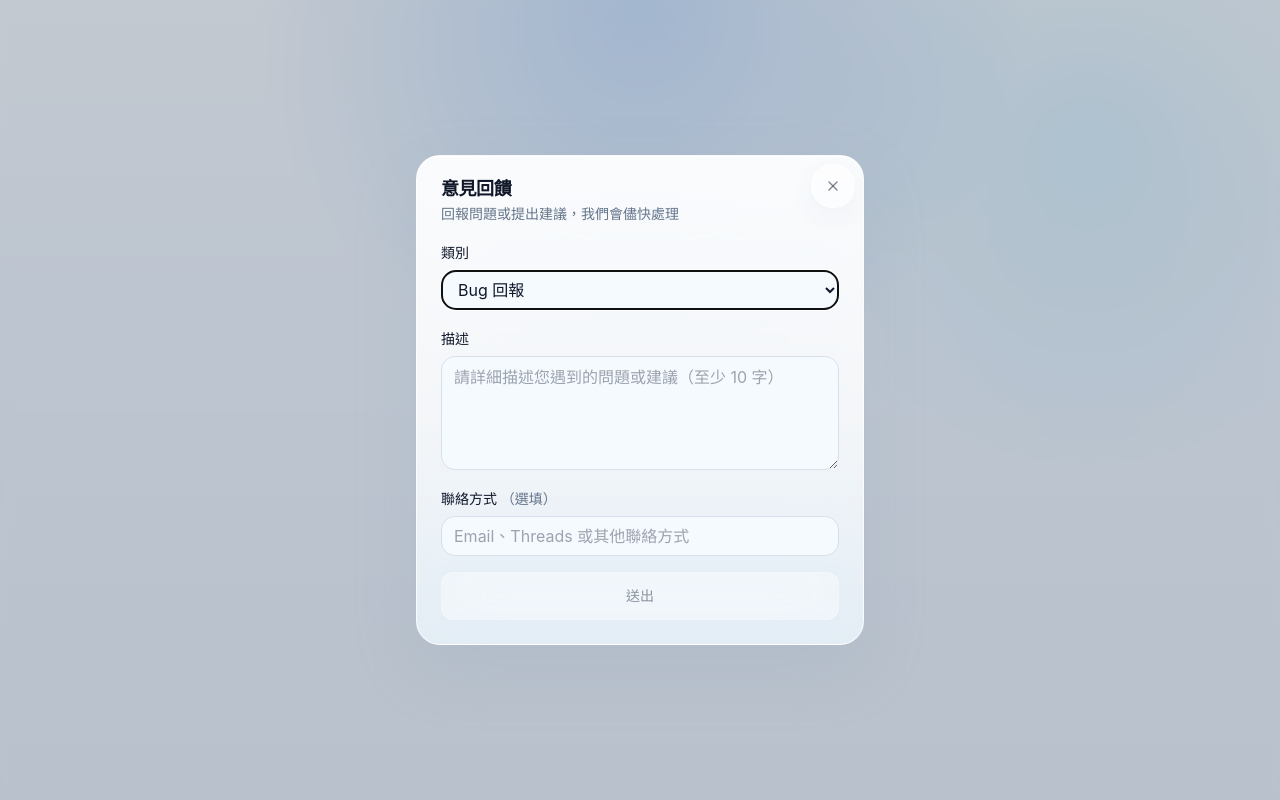
Scenario: FeedbackModal › 錯誤處理 › 400 → 顯示驗證錯誤
Type "這個功能有問題，需要修正一下。" into the text box labelled "描述" at (640, 413), box left=441, top=356, right=839, bottom=470
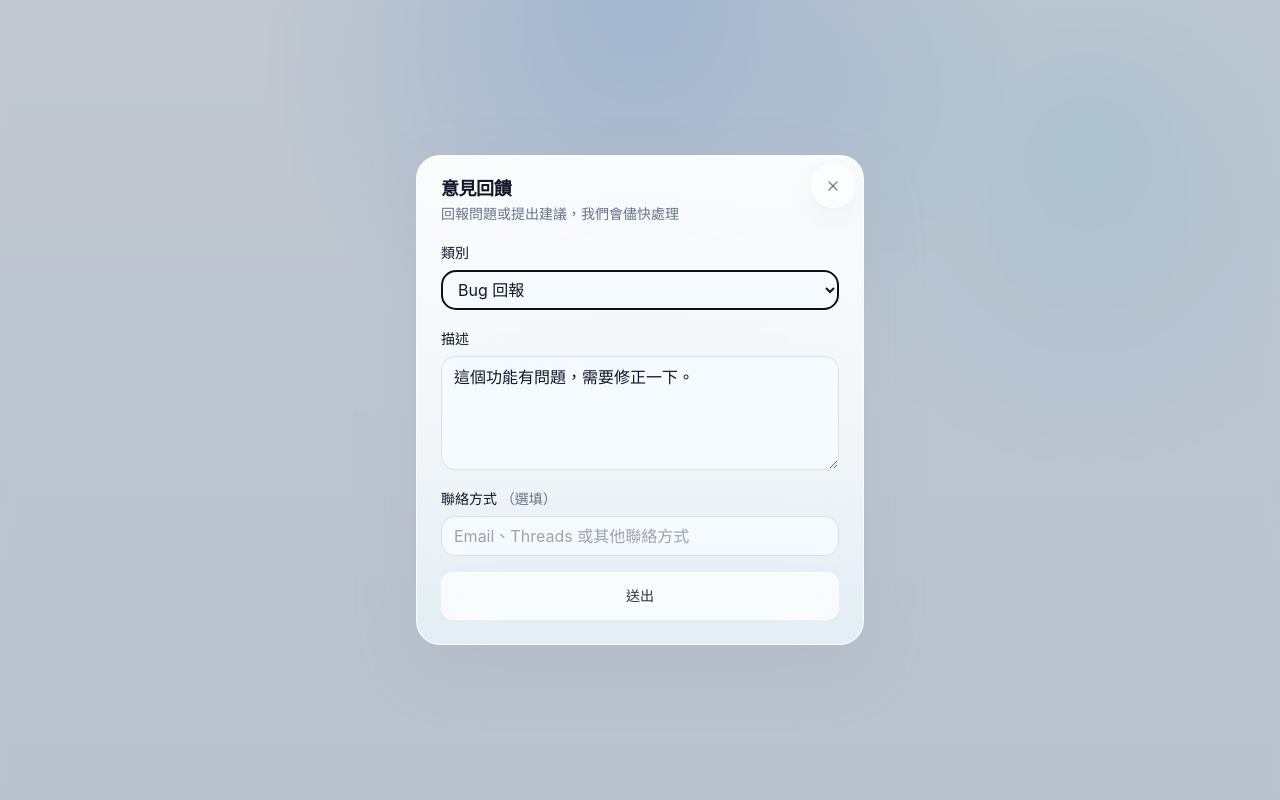
Click the button "送出" at (640, 596), box left=441, top=572, right=839, bottom=620
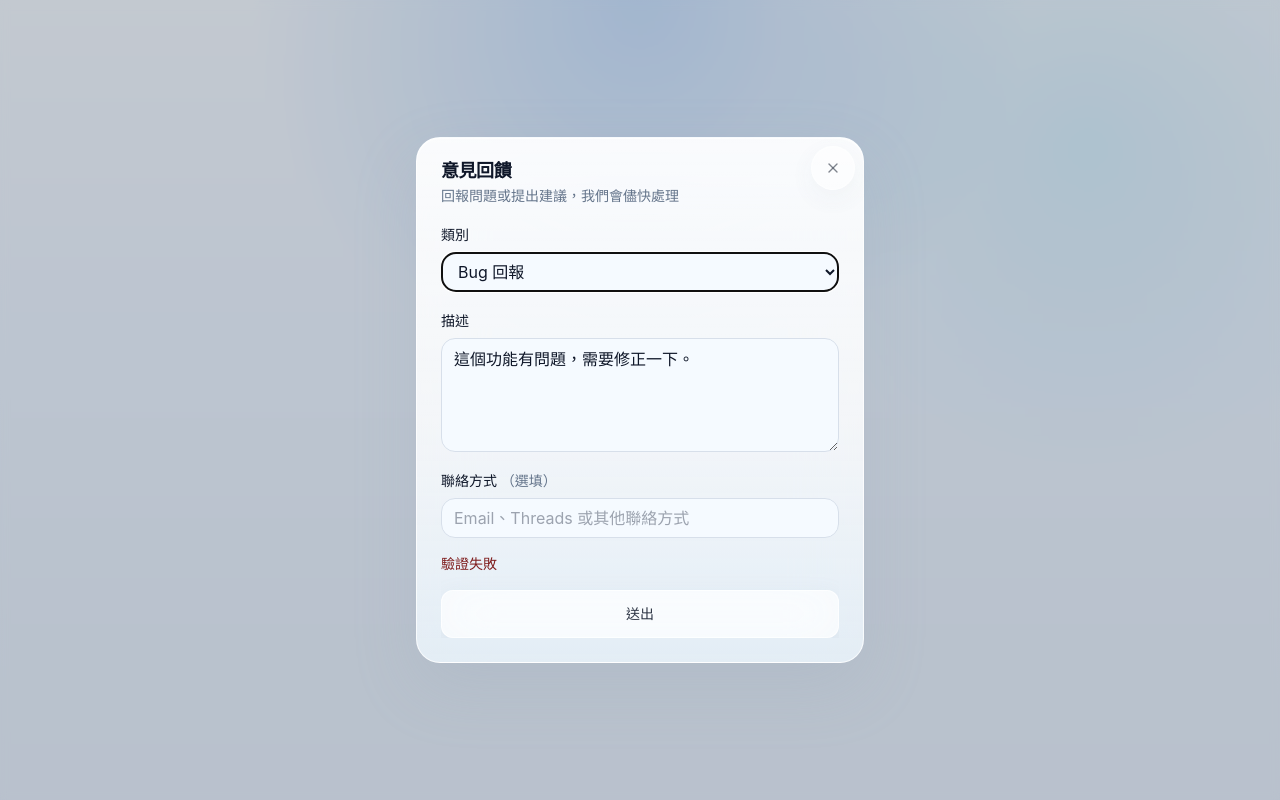
expect the text "驗證失敗" is shown: met, box left=441, top=555, right=497, bottom=572
